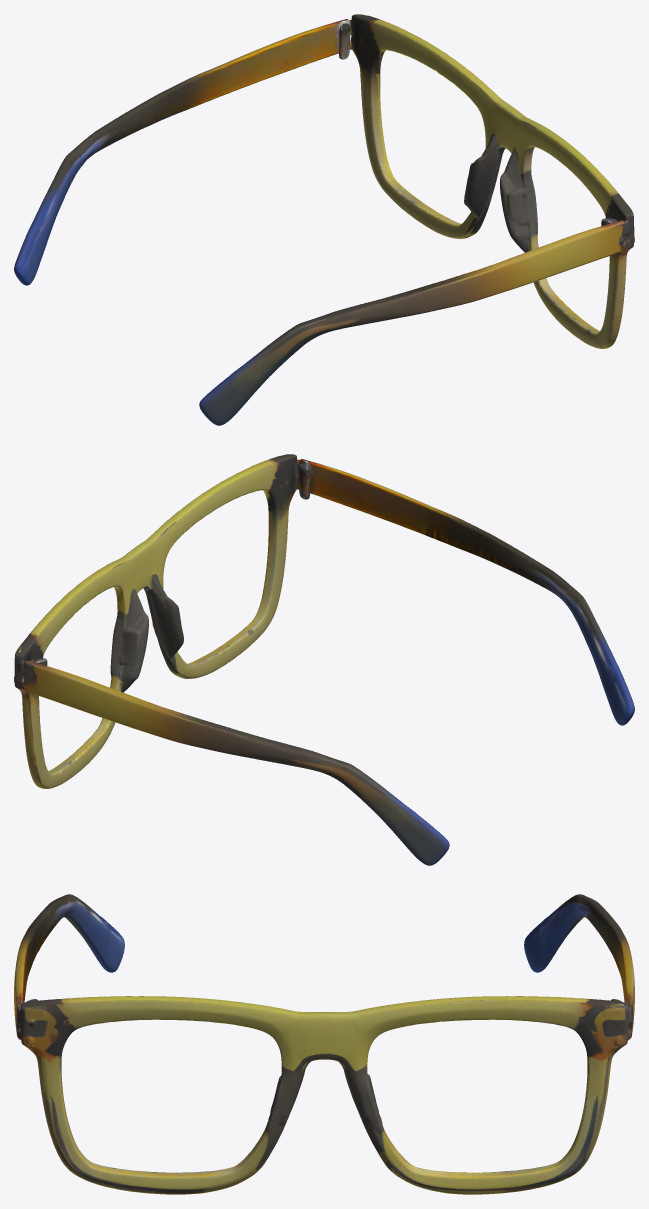
File: Gafas verdes.glb
The picture shows the model from 3 angles, top to bottom: view 1: azimuth 30°, elevation 25°; view 2: azimuth 150°, elevation 25°; view 3: azimuth 270°, elevation 25°; orthographic projection. The views are drawn at different scales.
Parts seen in each view (by area): view 1: tripo_node_5e15736d-48ee-4af2-b6a3-32a091ffe662; view 2: tripo_node_5e15736d-48ee-4af2-b6a3-32a091ffe662; view 3: tripo_node_5e15736d-48ee-4af2-b6a3-32a091ffe662.
Boxes of the visible parts, x1=… form: tripo_node_5e15736d-48ee-4af2-b6a3-32a091ffe662: x1=14, y1=14, x2=634, y2=425; tripo_node_5e15736d-48ee-4af2-b6a3-32a091ffe662: x1=14, y1=454, x2=634, y2=865; tripo_node_5e15736d-48ee-4af2-b6a3-32a091ffe662: x1=14, y1=894, x2=634, y2=1194.
Size of the model in its own units: 0.8432 by 0.3513 by 1.
Materials: 1 (1 with a texture image).
